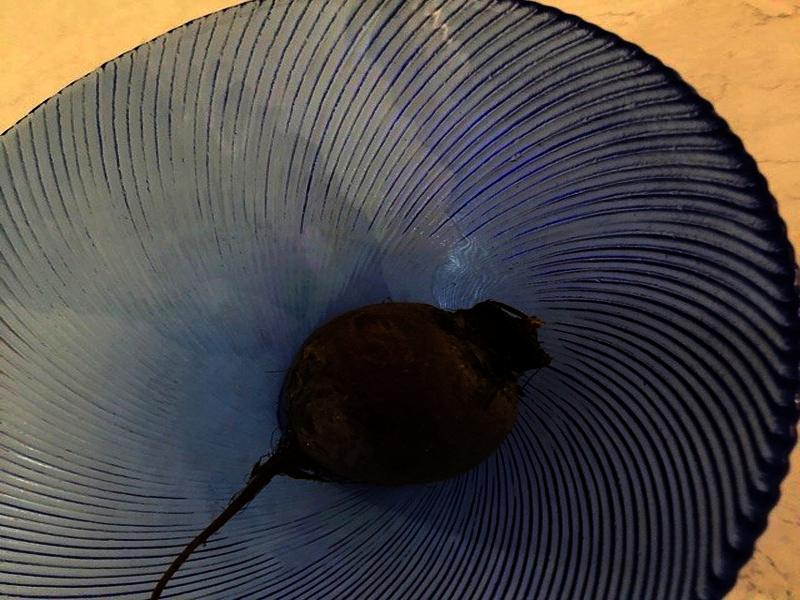Beet: (152, 302, 549, 600)
